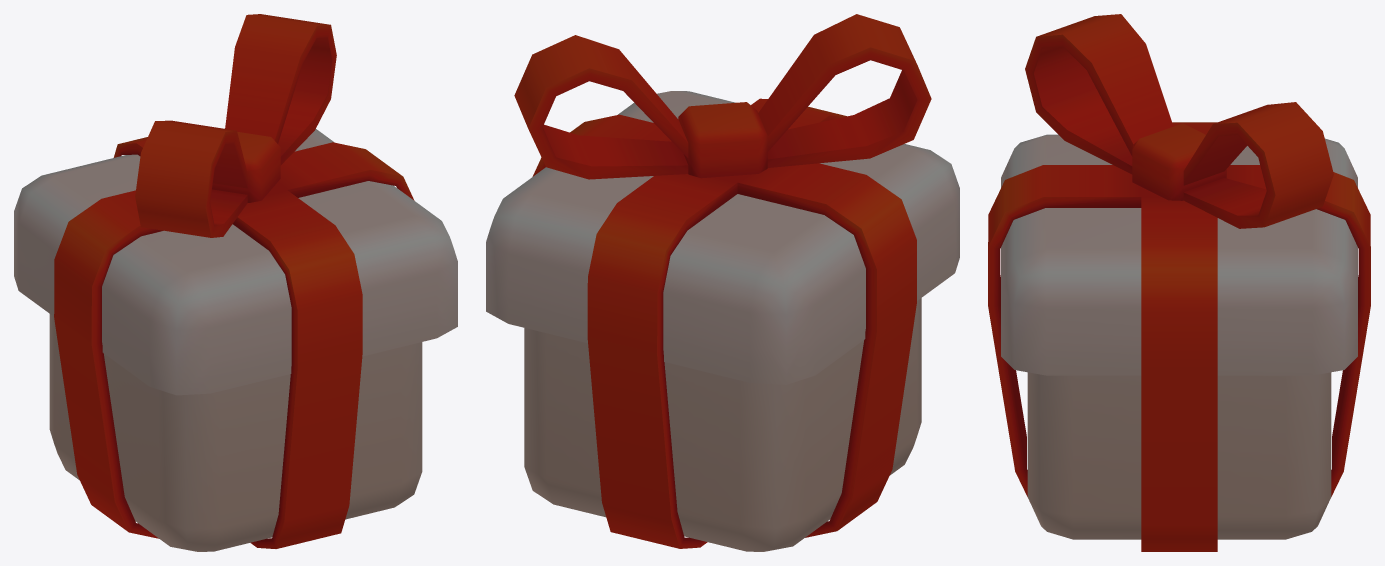
File: gift_white.glb
3 views of the same model, side by side, from view 1: azimuth 30°, elevation 25°; view 2: azimuth 150°, elevation 25°; view 3: azimuth 270°, elevation 25° (orthographic). The views are drawn at different scales.
Visible parts, largest first — view 1: gift_white; view 2: gift_white; view 3: gift_white.
Boxes of the visible parts, x1=… form: gift_white: x1=14, y1=14, x2=457, y2=551; gift_white: x1=486, y1=14, x2=959, y2=551; gift_white: x1=988, y1=14, x2=1370, y2=551.
Size of the model in its own units: 0.4021 by 0.506 by 0.4023.
Materials: 1 (1 with a texture image).
